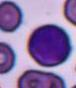M: (27, 24, 72, 67)
